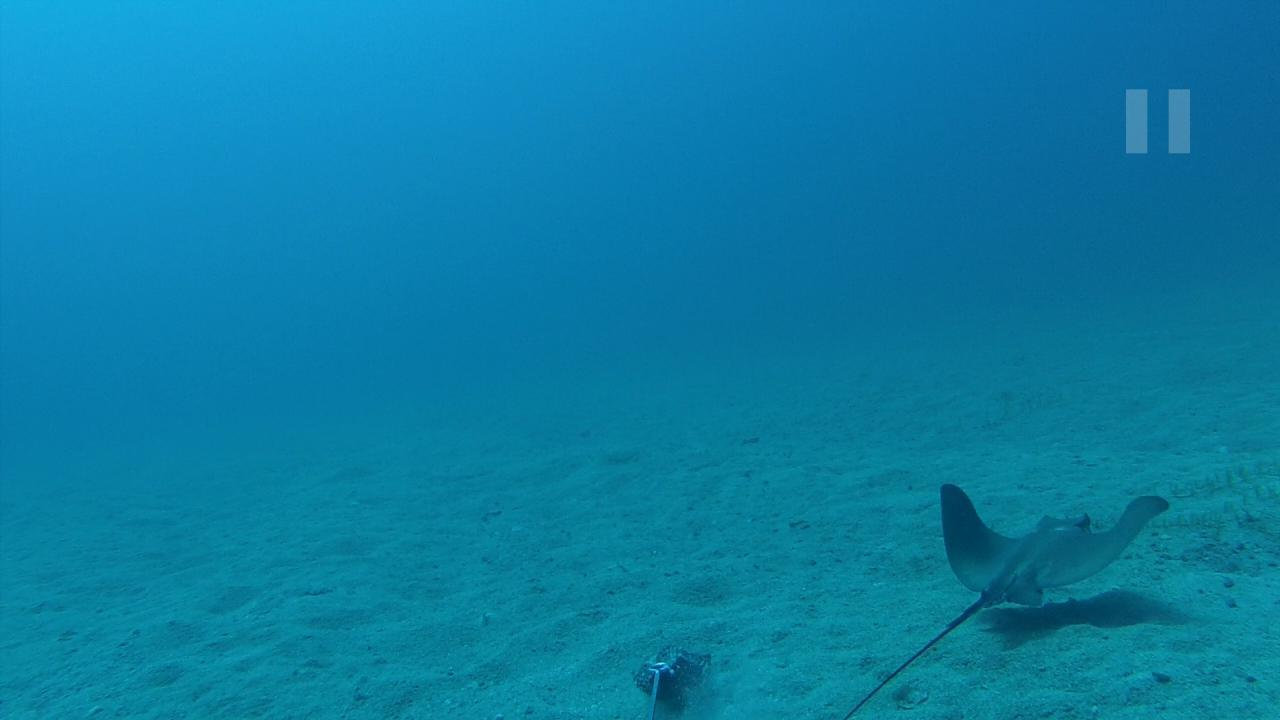dasyatis: (836, 484, 1171, 720)
